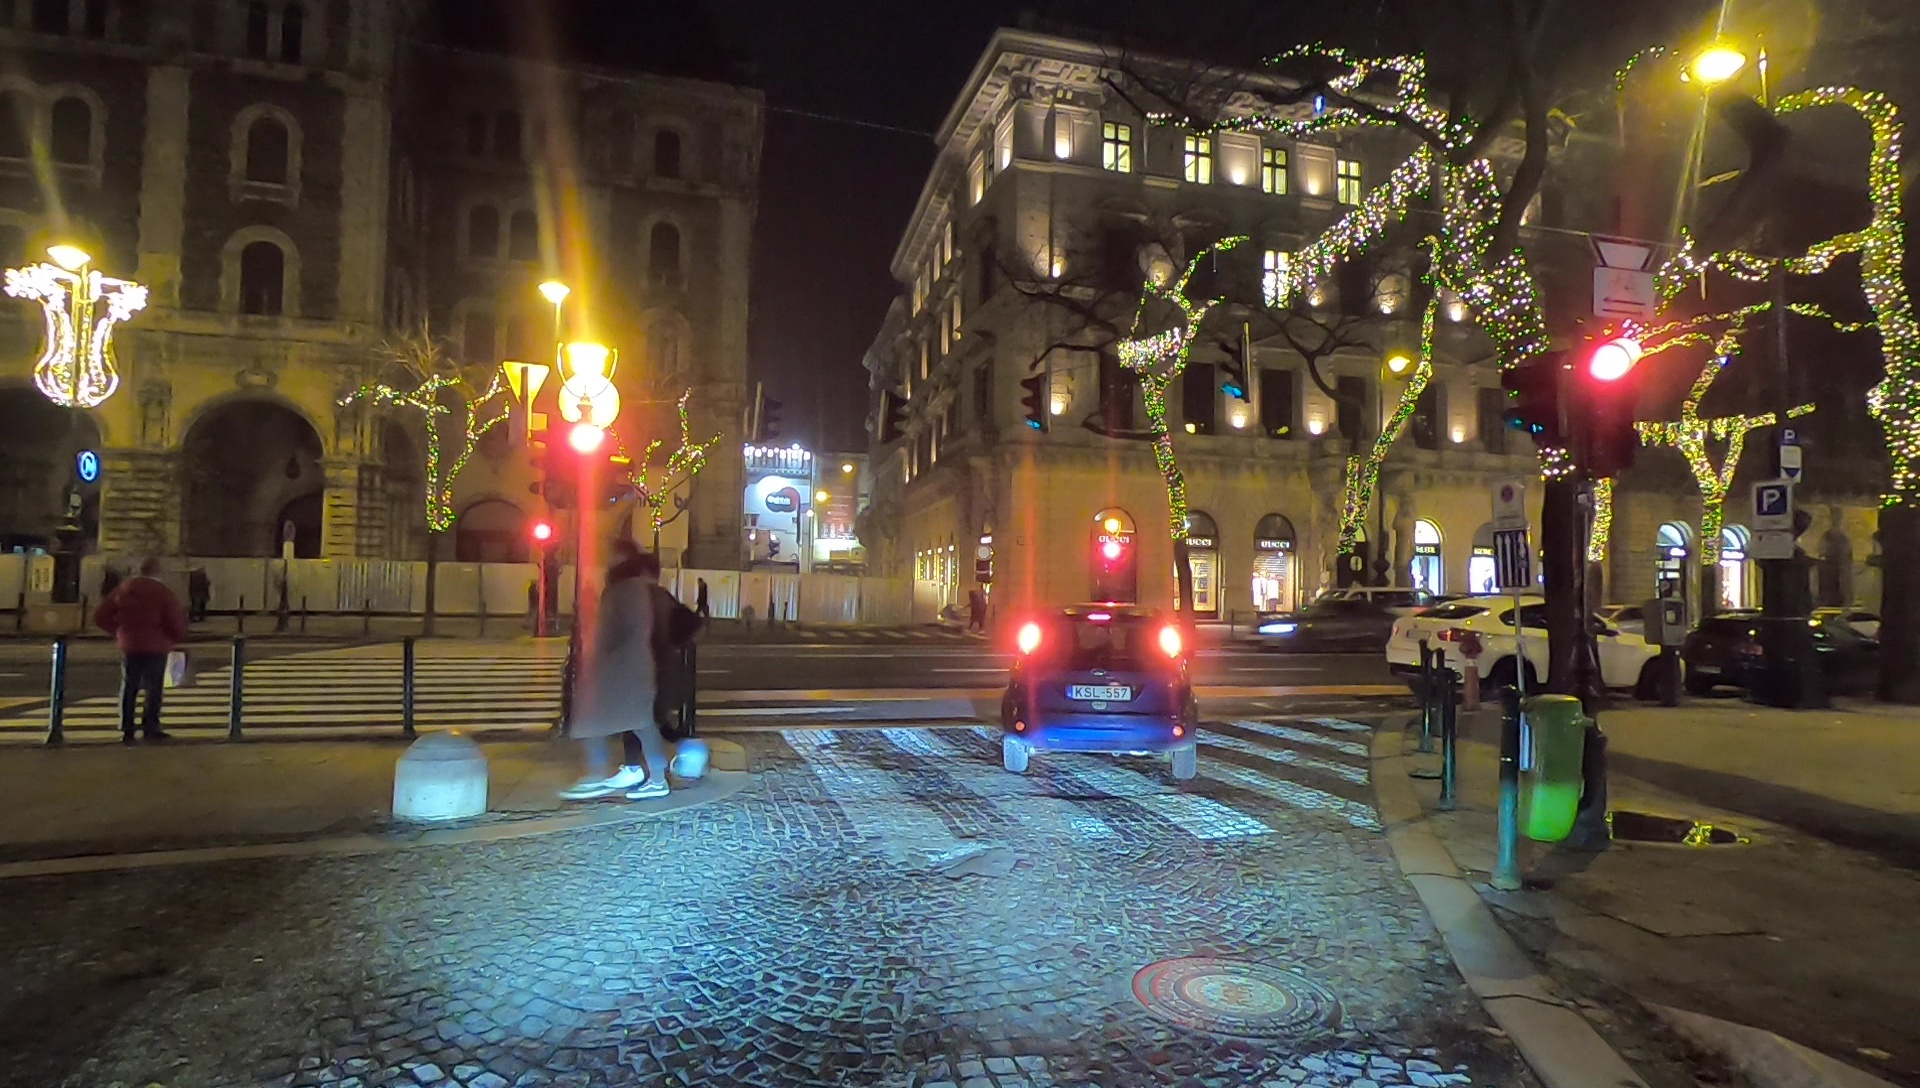person: (567, 533, 671, 804), (98, 560, 192, 747), (188, 561, 211, 625), (525, 578, 542, 632), (966, 587, 985, 633), (695, 577, 710, 621)
